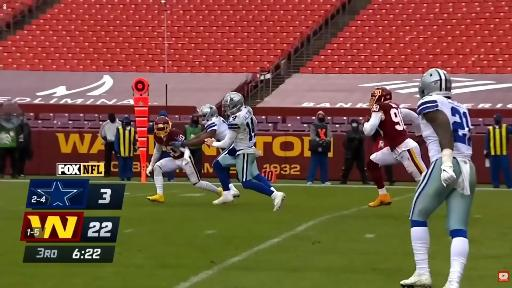Helmet: (419, 69, 451, 98), (223, 92, 244, 115), (370, 87, 391, 109), (154, 116, 171, 138), (199, 105, 218, 123)
Jersey: (417, 94, 472, 162), (372, 103, 408, 150), (228, 107, 256, 154), (154, 129, 185, 159), (205, 116, 228, 140)
Player: (401, 69, 476, 287), (206, 92, 285, 211), (364, 87, 425, 207), (147, 116, 221, 202), (180, 105, 228, 147), (182, 105, 228, 146)
